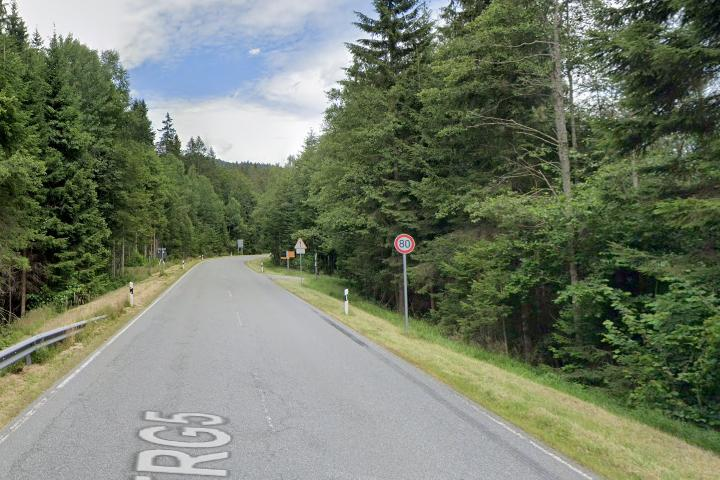traffic_sign: (393, 233, 416, 253)
